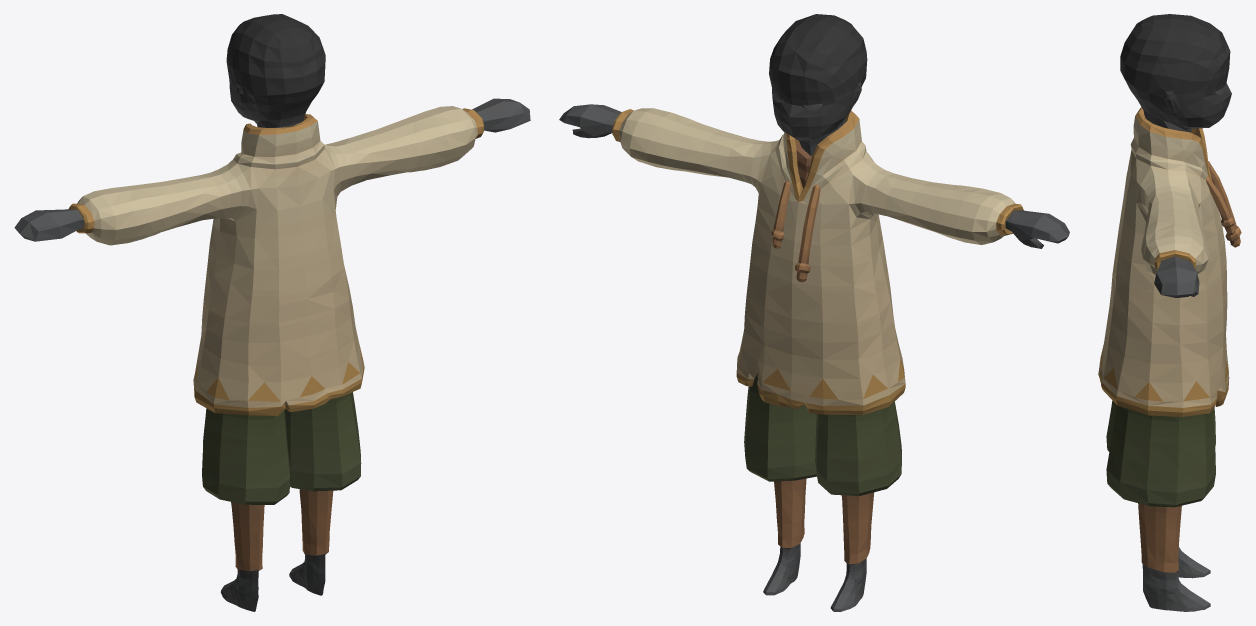
Rendered from CharSkyKid_Body_AP17RaggedTunic.glb.
The picture shows the model from 3 angles, left to right: view 1: azimuth 30°, elevation 25°; view 2: azimuth 150°, elevation 25°; view 3: azimuth 270°, elevation 25°; orthographic projection.
Parts seen in each view (by area): view 1: CharSkyKid_Body_AP17RaggedTunic; view 2: CharSkyKid_Body_AP17RaggedTunic; view 3: CharSkyKid_Body_AP17RaggedTunic.
Boxes of the visible parts, x1,y1,x2,y2 form: CharSkyKid_Body_AP17RaggedTunic: (14,14,530,611); CharSkyKid_Body_AP17RaggedTunic: (559,14,1069,611); CharSkyKid_Body_AP17RaggedTunic: (1098,14,1241,611).
Size of the model in its own units: 13.85 by 14.94 by 3.39.
Materials: 1 (1 with a texture image).
